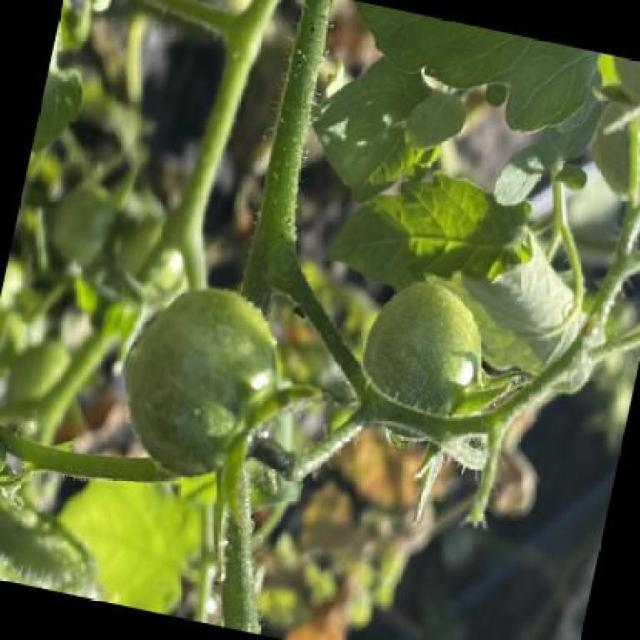unripe tomato: (108, 275, 294, 487), (346, 269, 494, 454)
